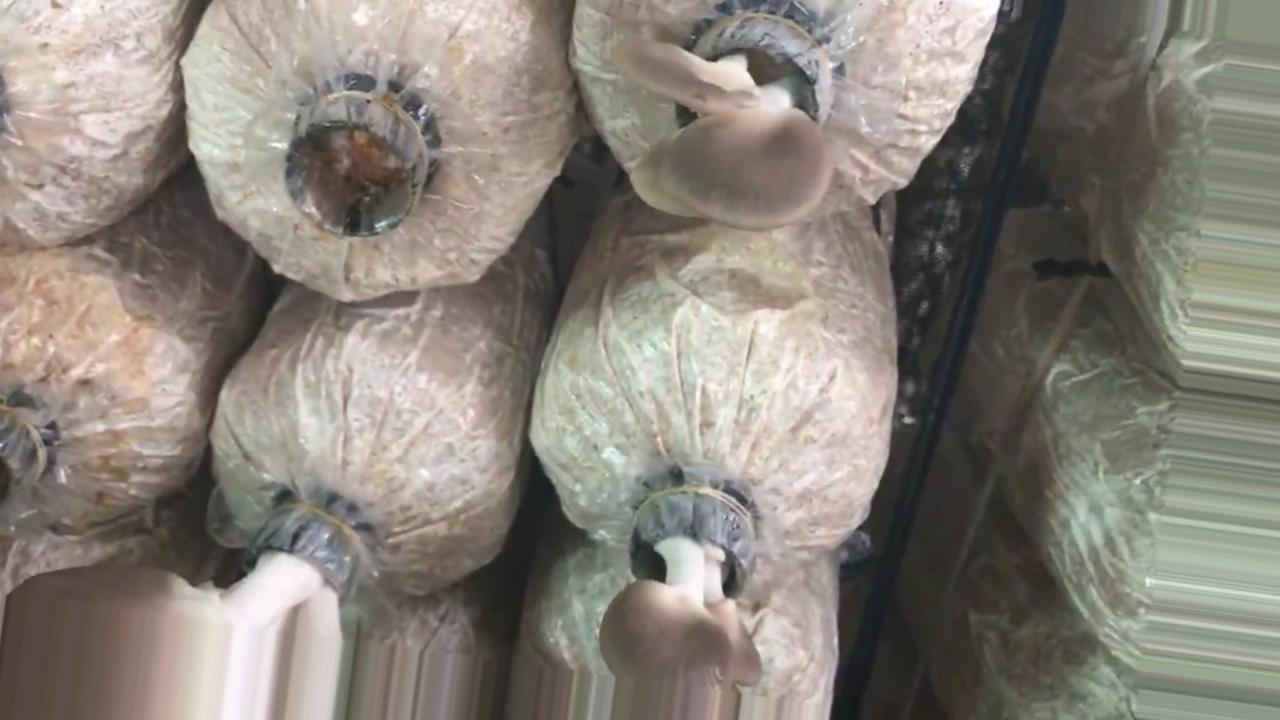nam: (1, 500, 378, 720), (610, 12, 859, 231), (598, 482, 767, 720)
